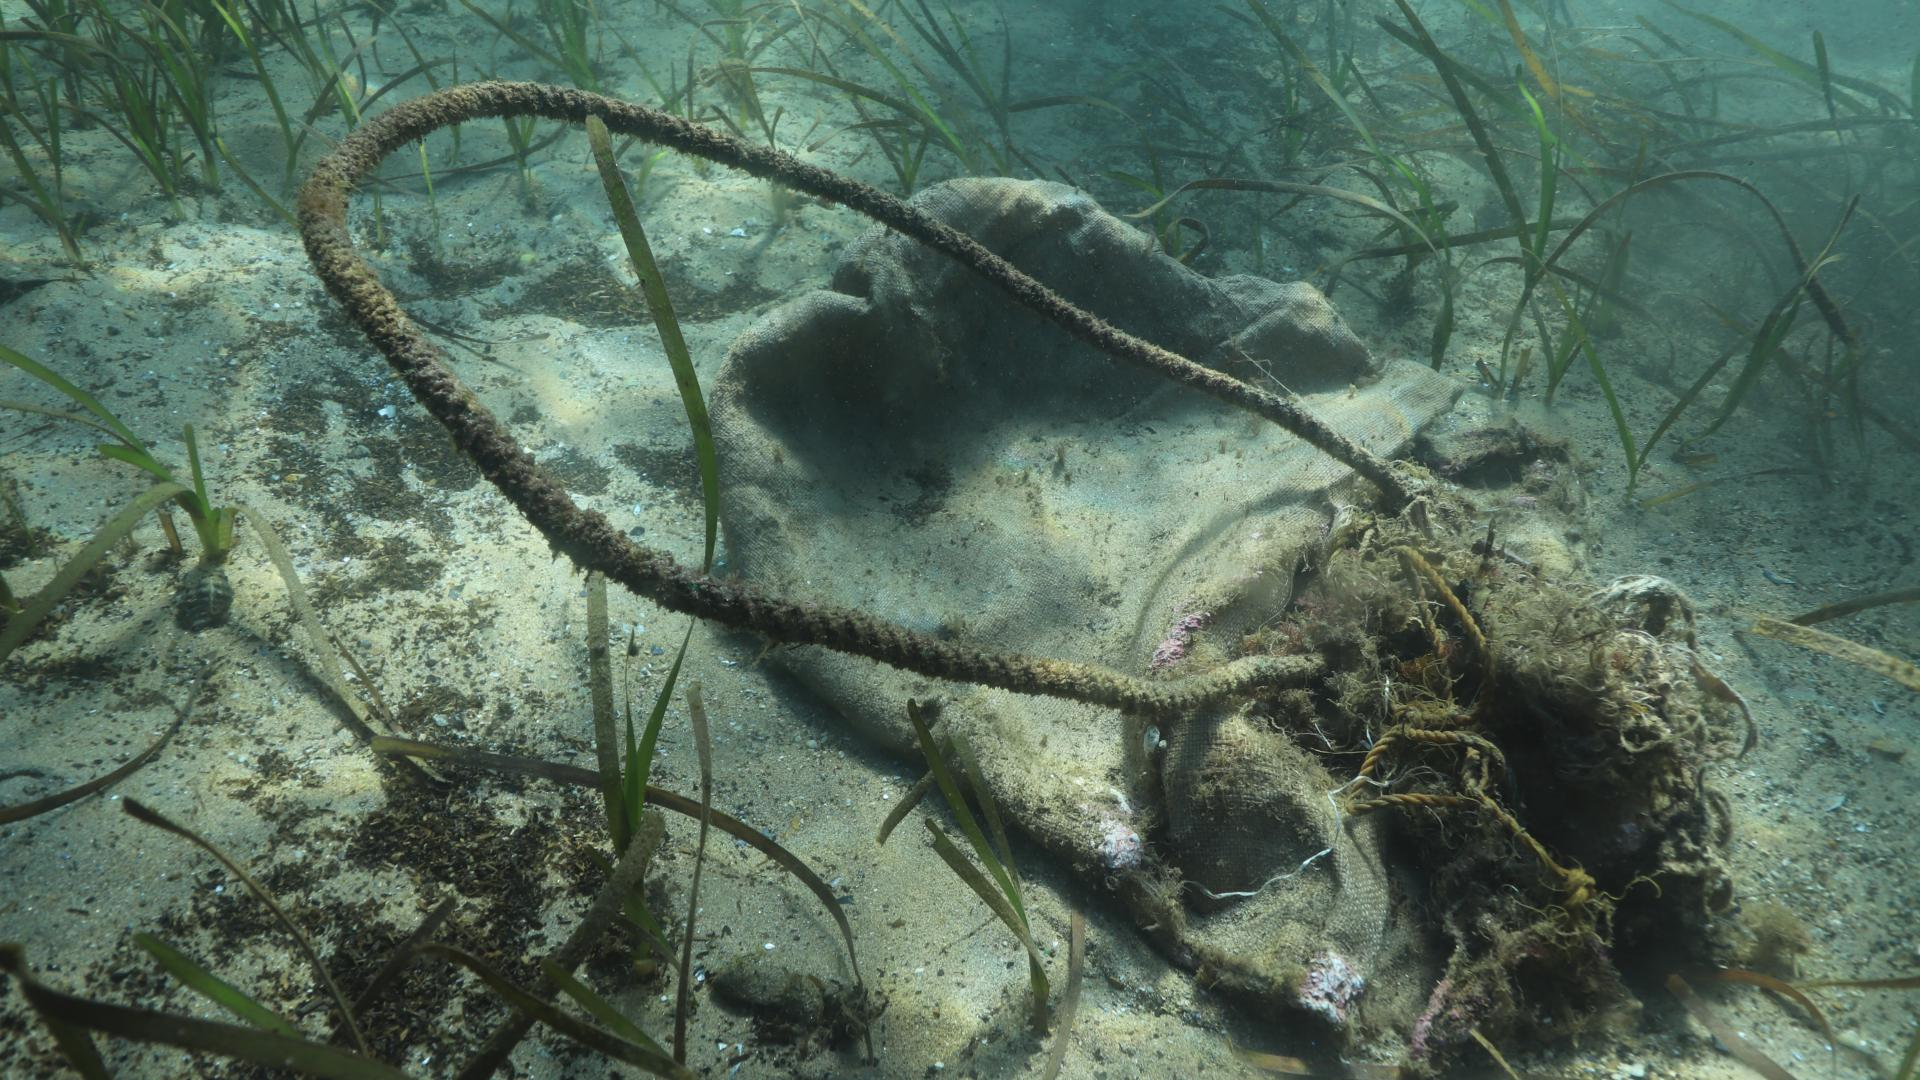bundle of ropes: (1338, 541, 1557, 868)
rope: (291, 75, 1431, 715)
